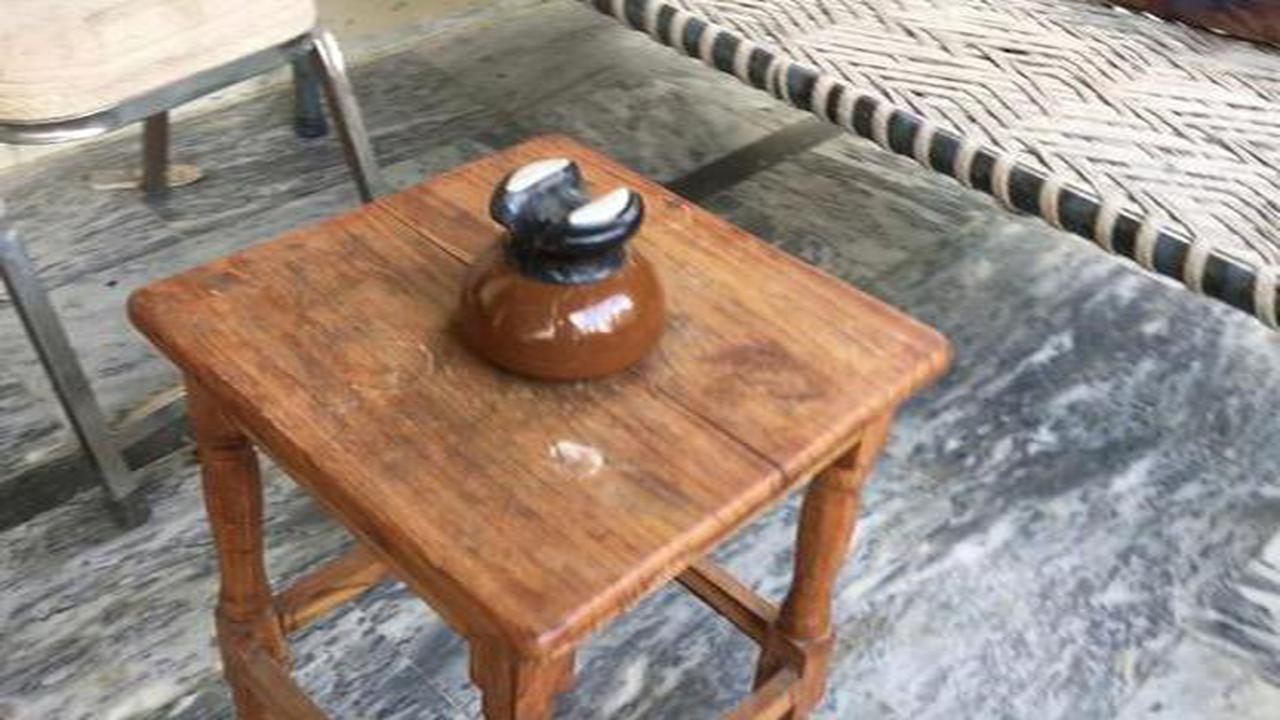insulator_pin: (431, 141, 687, 395)
